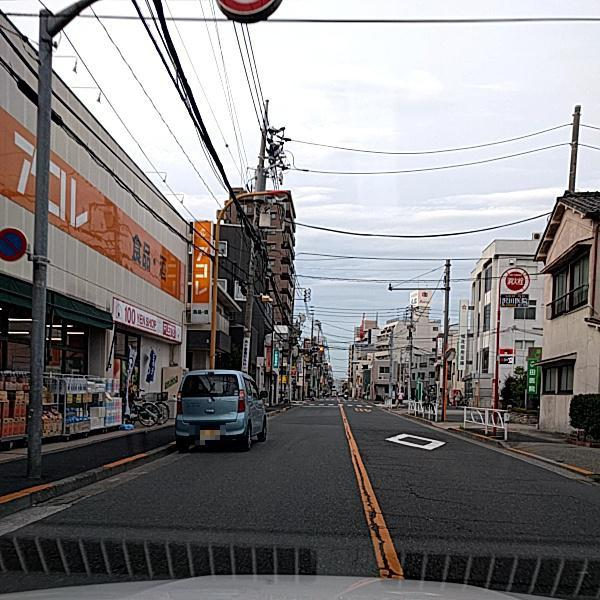D20: (353, 439, 571, 536)
